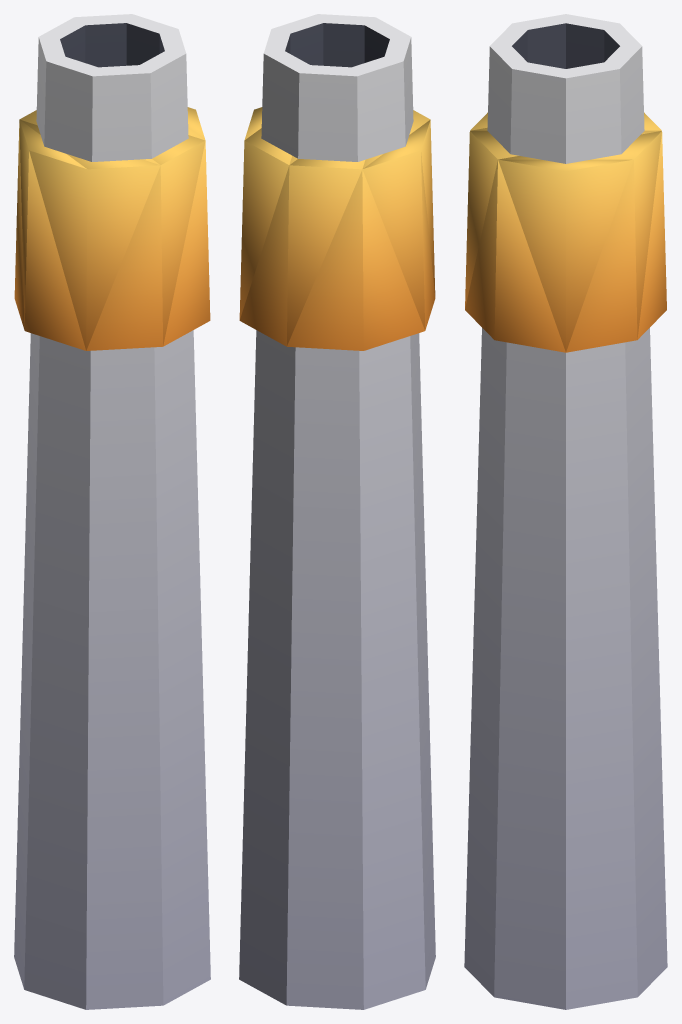
The model's file is ki_chimney_basic.fbx.
The picture shows the model from 3 angles, left to right: view 1: azimuth 30°, elevation 25°; view 2: azimuth 150°, elevation 25°; view 3: azimuth 270°, elevation 25°; orthographic projection.
Visible parts, largest first — view 1: ki_chimney_basic; view 2: ki_chimney_basic; view 3: ki_chimney_basic.
Part boxes in pixels (x1,y1,x2,y2): ki_chimney_basic: [14, 14, 210, 1009]; ki_chimney_basic: [239, 14, 435, 1009]; ki_chimney_basic: [464, 14, 667, 1009].
Bounding box in the file's own units: 1.7 × 8.5 × 1.7.
